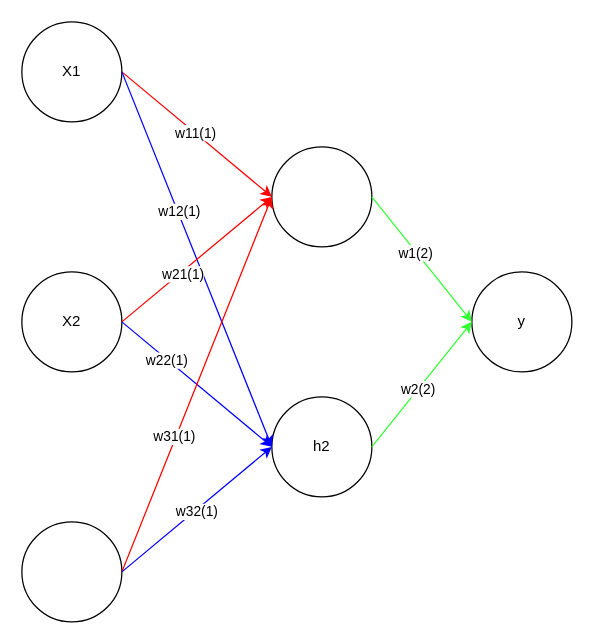
Some shapes in this 594 by 644 pixel diagram are drawn without their labels. The centre of each missing label's shape, as x and y in pixels:
"h1" goes at pixel 321 196.
"X3" goes at pixel 71 571.
